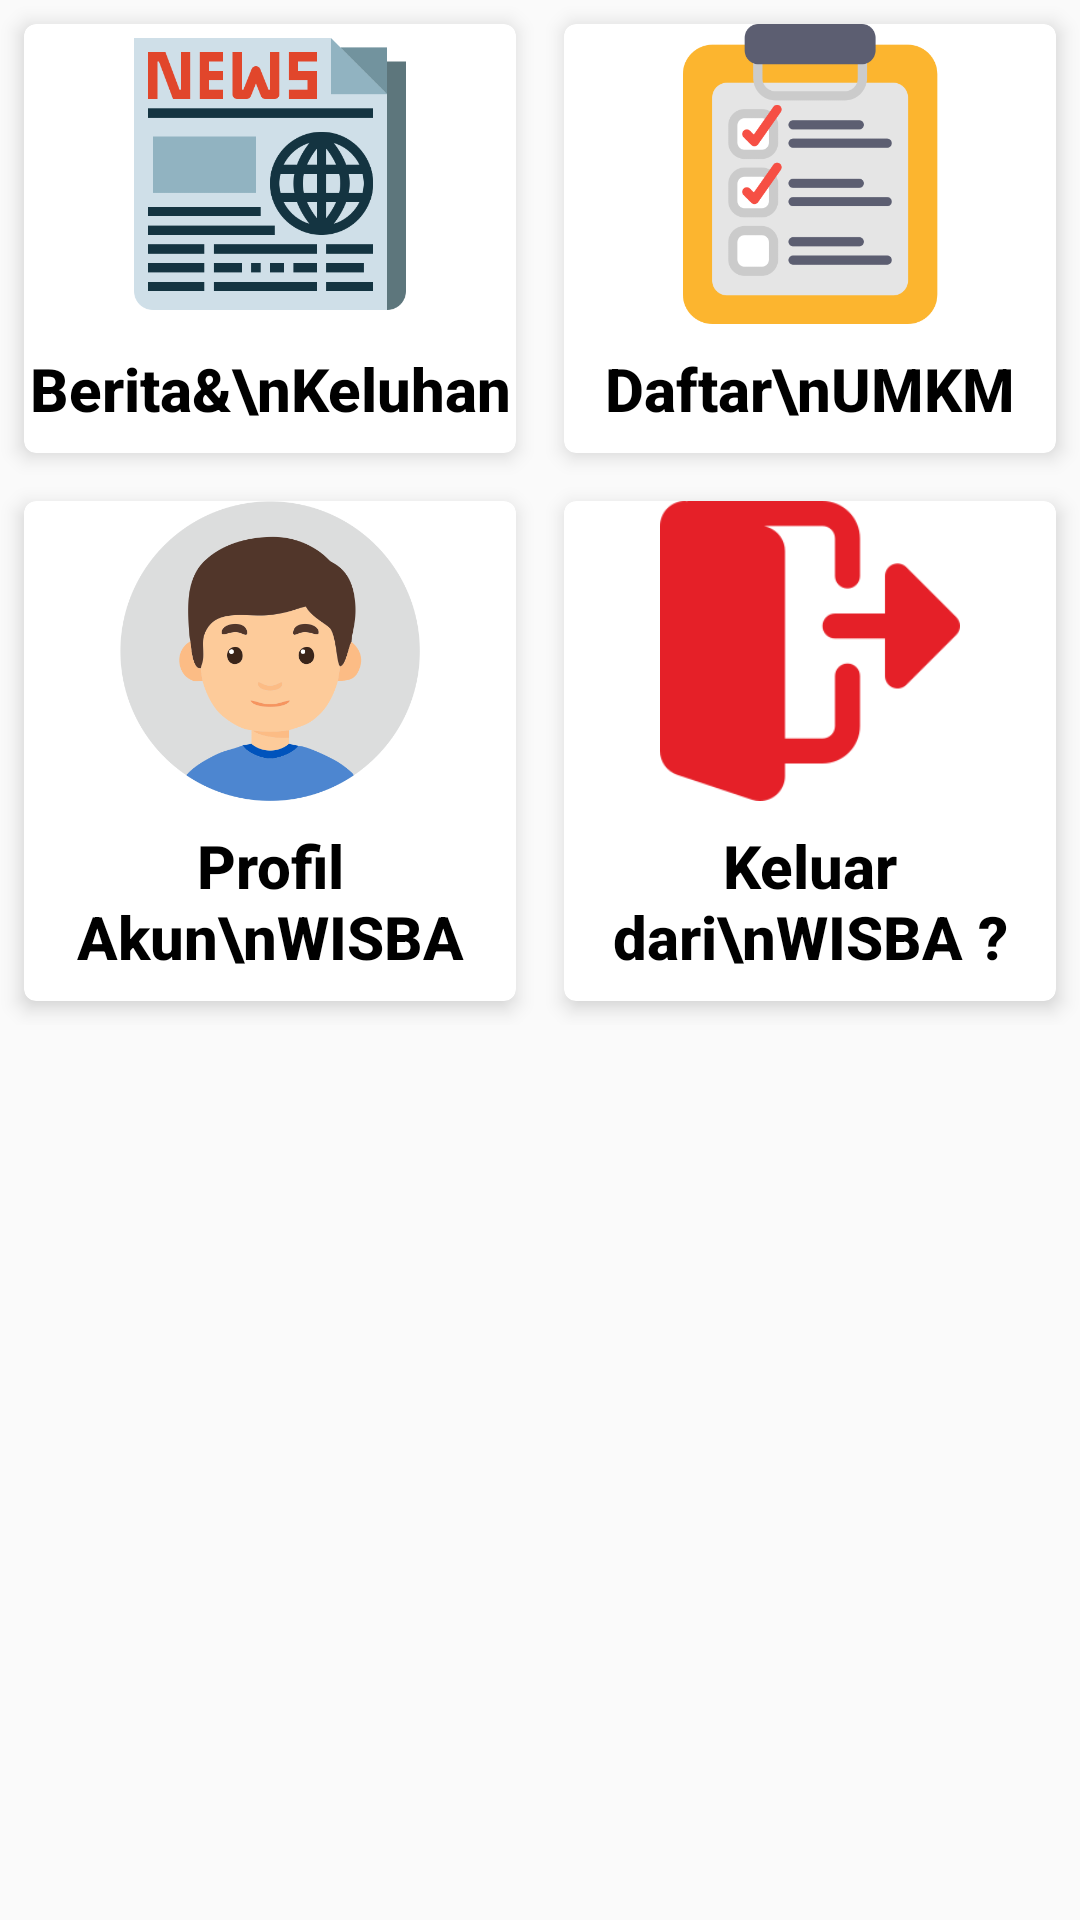

Point at icon controls on the screen. Image size 1080w x 1920h, points as point (x, y).
user: point (270, 651)
